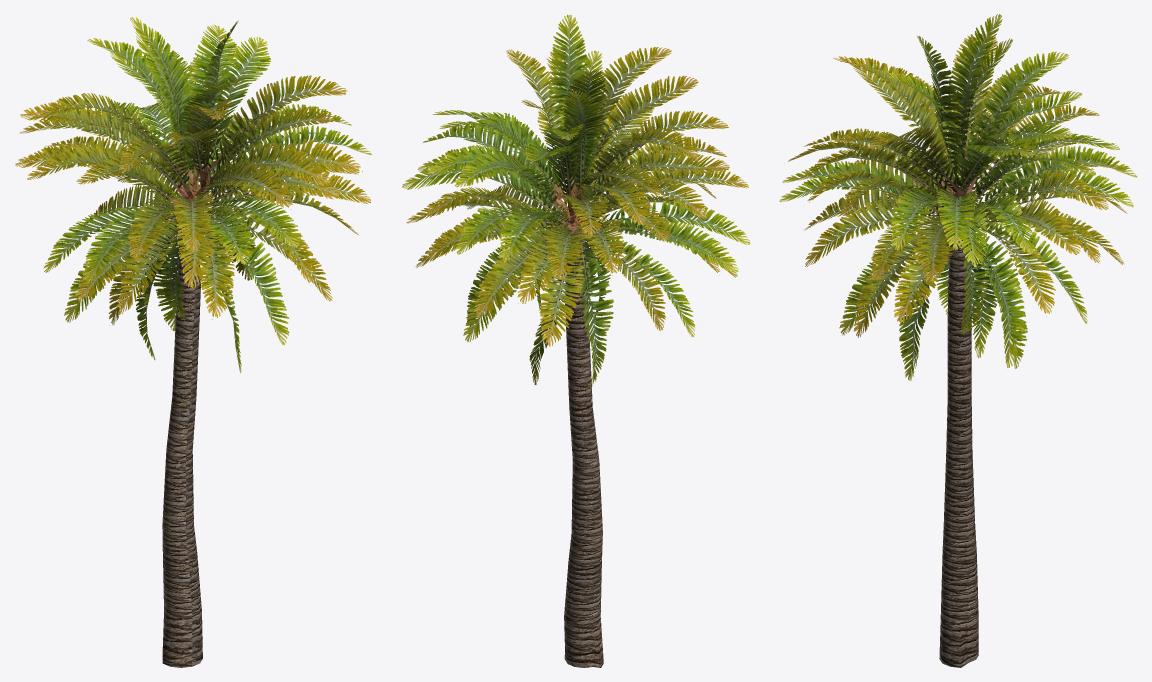
Rendered from palm_tree_realistic.glb.
3 views of the same model, side by side, from view 1: azimuth 30°, elevation 25°; view 2: azimuth 150°, elevation 25°; view 3: azimuth 270°, elevation 25° (orthographic). The views are drawn at different scales.
Parts seen in each view (by area): view 1: palm.001; view 2: palm.001; view 3: palm.001.
Boxes of the visible parts, left/top/right/bottom form: palm.001: left=15, top=17, right=371, bottom=667; palm.001: left=402, top=14, right=750, bottom=667; palm.001: left=779, top=14, right=1137, bottom=667.
Bounding box in the file's own units: 3.68 × 7.16 × 3.63.
1 material, 1 textured.
